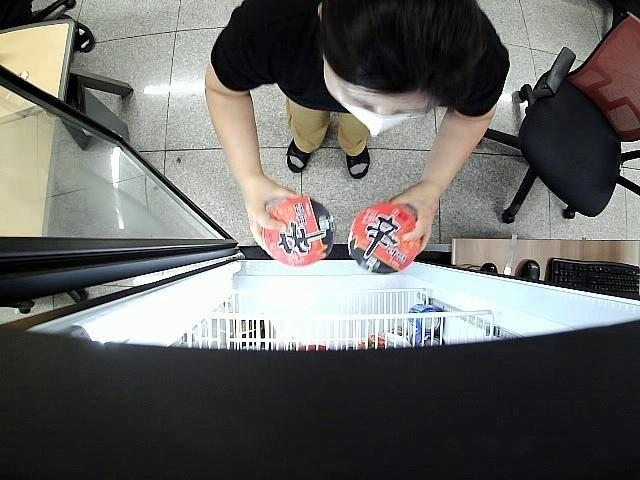01_ShinRamen_L: (263, 195, 336, 268), (347, 203, 420, 274)
